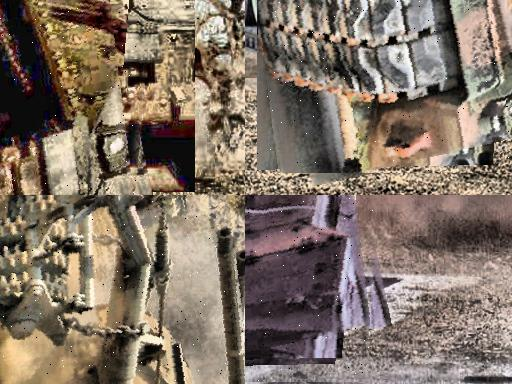tanks: (261, 1, 512, 174), (1, 196, 197, 384), (1, 1, 139, 196), (246, 196, 375, 355)
